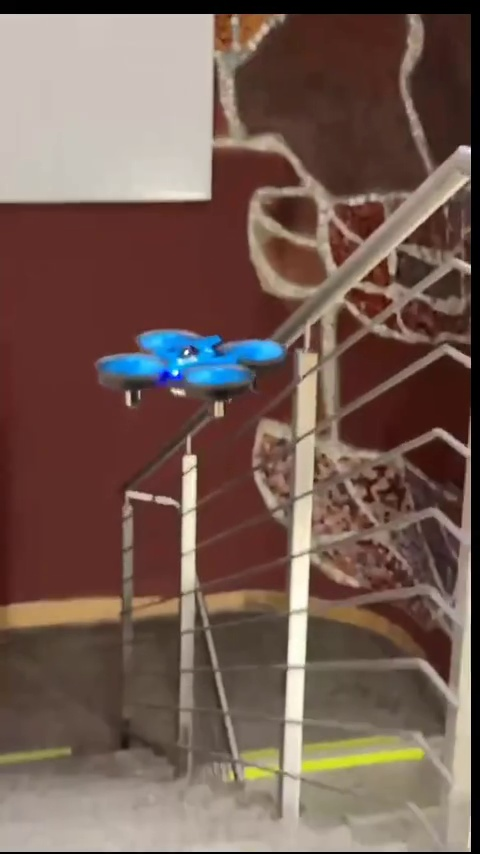drone: (98, 331, 287, 410)
